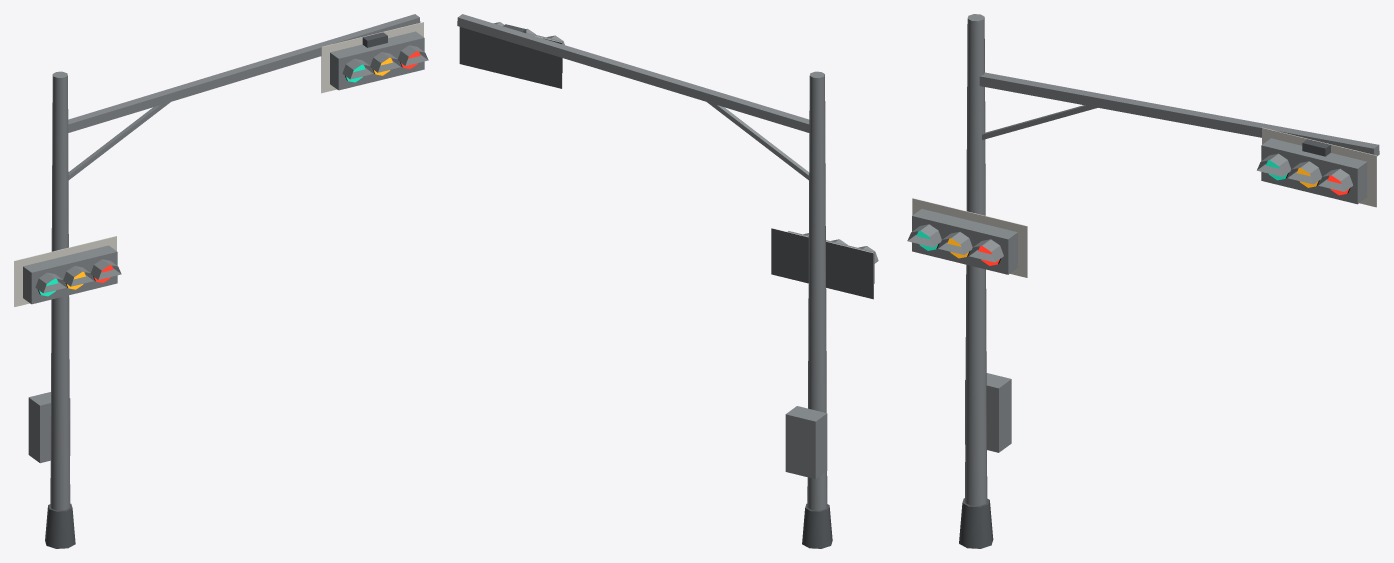
File: tokyo_traffic_signal.glb
3 renders of one model, left to right at view 1: azimuth 30°, elevation 25°; view 2: azimuth 150°, elevation 25°; view 3: azimuth 330°, elevation 25°, orthographic. The views are drawn at different scales.
Parts seen in each view (by area): view 1: tokyo_traffic_signal; view 2: tokyo_traffic_signal; view 3: tokyo_traffic_signal.
Boxes of the visible parts, box(x1,y1,x2,y2) form: tokyo_traffic_signal: box(14, 14, 428, 548); tokyo_traffic_signal: box(457, 14, 878, 548); tokyo_traffic_signal: box(907, 14, 1379, 548).
Size of the model in its own units: 5.99 by 6.5 by 0.98.
1 material, 1 textured.
